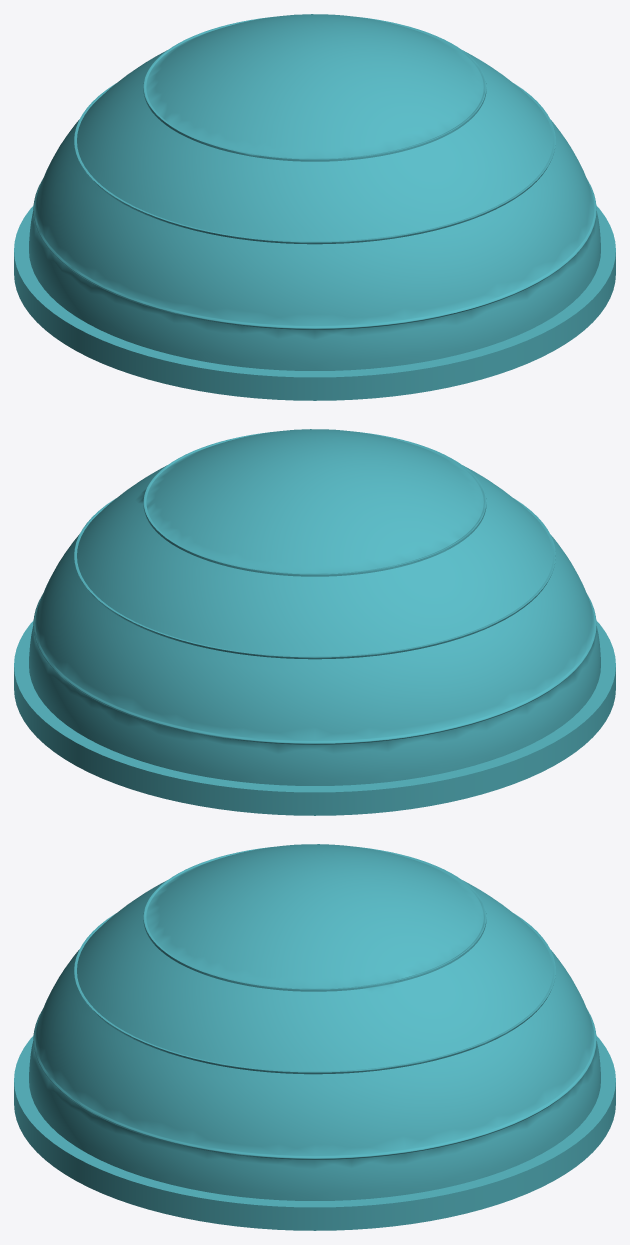
The model's file is balance_dome.glb.
The picture shows the model from 3 angles, top to bottom: view 1: azimuth 30°, elevation 25°; view 2: azimuth 150°, elevation 25°; view 3: azimuth 270°, elevation 25°; orthographic projection.
Visible parts, largest first — view 1: BalanceDome; view 2: BalanceDome; view 3: BalanceDome.
Part boxes in pixels (x1,y1,x2,y2): BalanceDome: (14,14,615,400); BalanceDome: (14,429,615,815); BalanceDome: (14,844,615,1230).
Size of the model in its own units: 1 by 0.4233 by 1.
